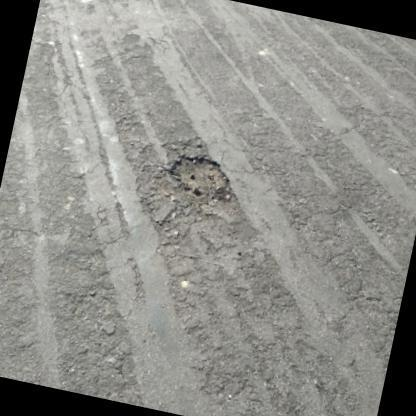pothole: (162, 149, 236, 206)
